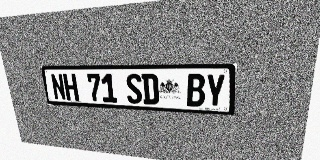1: (100, 74, 117, 103)
7: (86, 74, 103, 102)
B: (186, 74, 205, 107)
D: (141, 74, 159, 105)
H: (63, 74, 79, 101)
N: (50, 74, 66, 100)
S: (125, 74, 143, 104)
Y: (205, 74, 226, 108)
